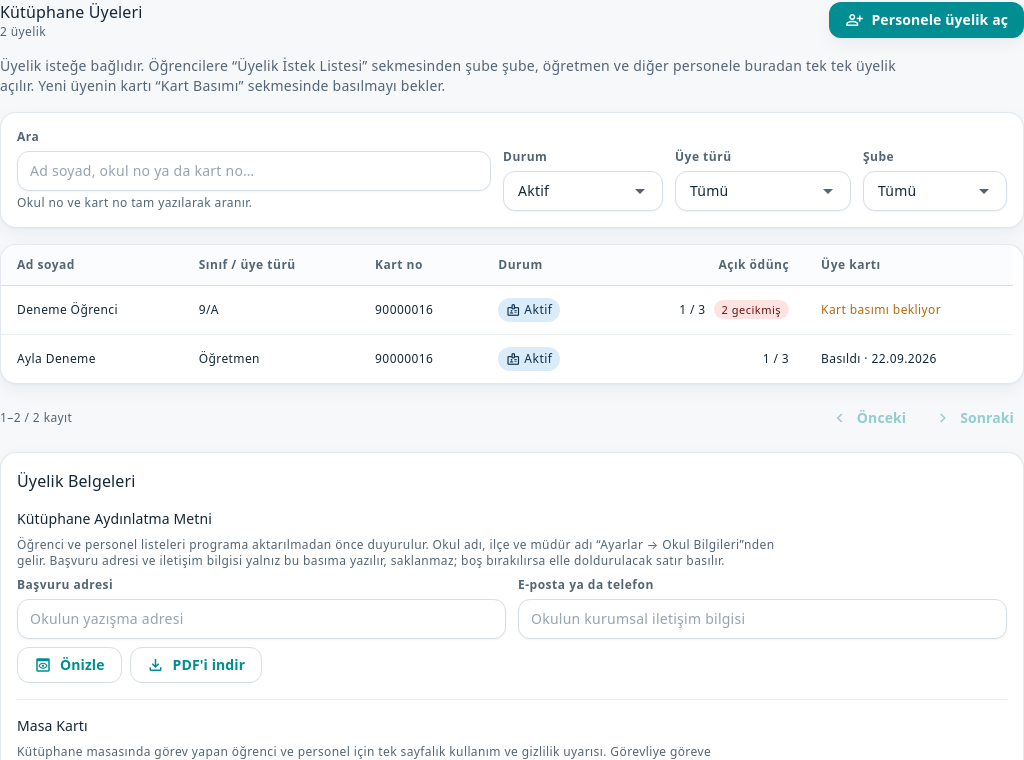
it: UyelerSekmesi › üyelik penceresi ödünç kaydını satır satır gösterir, okuma dili kullanmaz
Click the button with aria-label "Deneme Öğrenci üyeliğini aç" at (507, 310), box [1,286,1013,334]
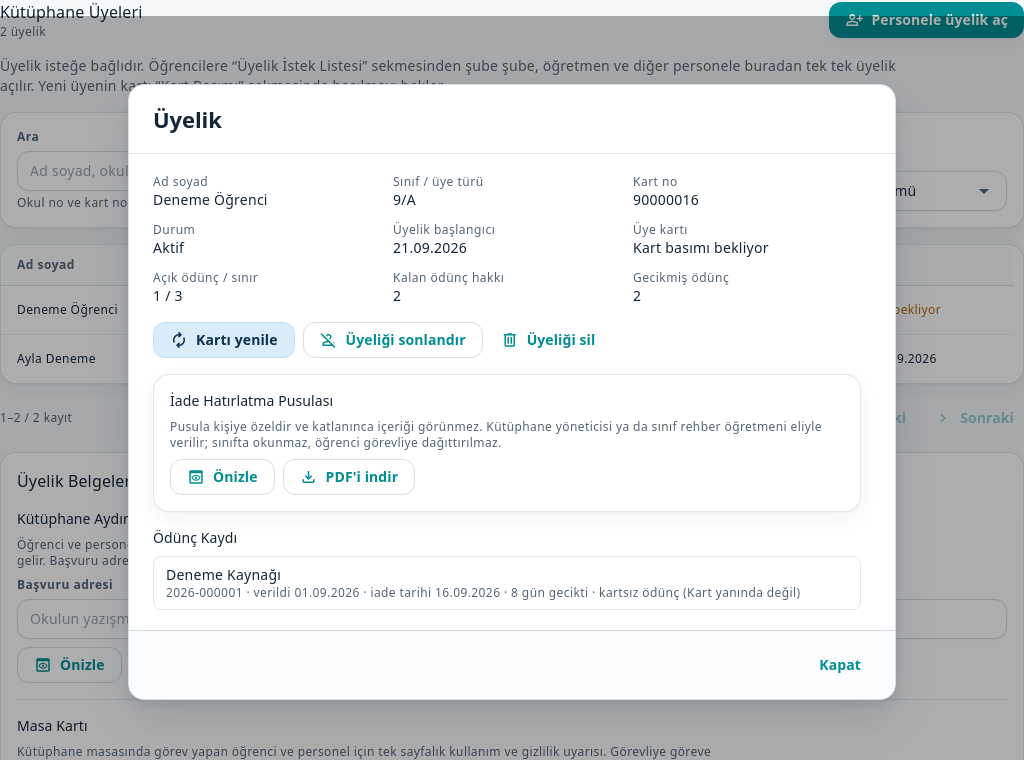
Now the text "Deneme Kaynağı" is shown, box [166,565,281,584]
Now the element "Ödünç Kaydı" shows "8 gün gecikti", box [500,584,588,601]
Now the element "Ödünç Kaydı" shows "kartsız ödünç (Kart yanında değil)", box [588,584,801,601]
